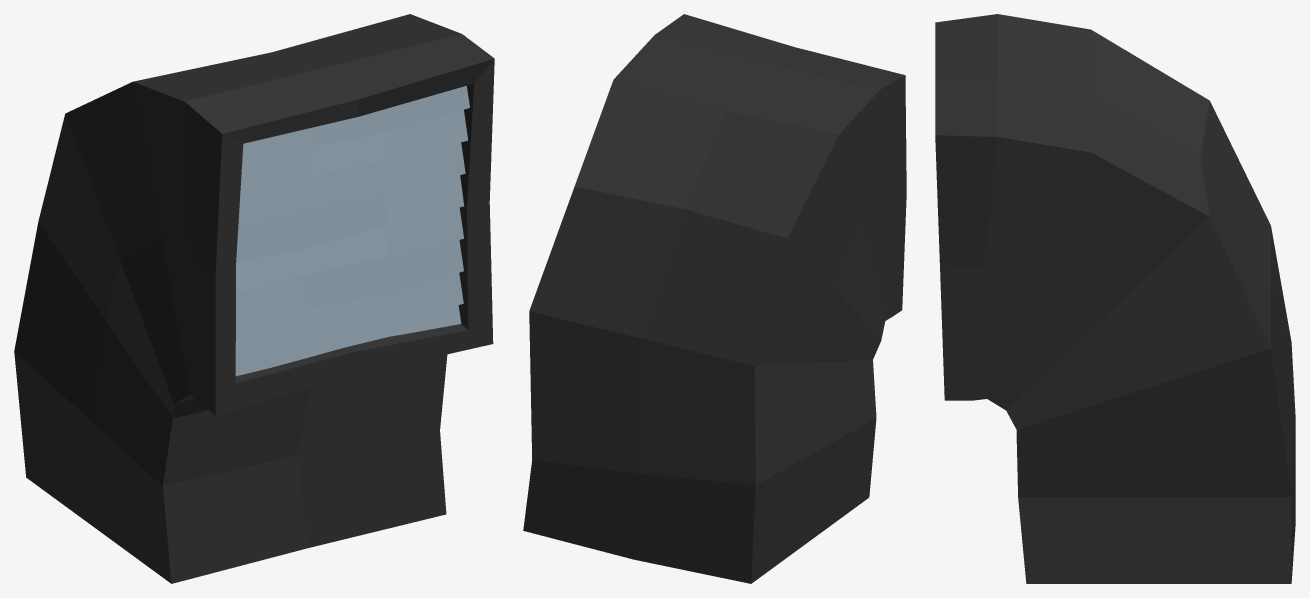
The model's file is VentRoof1.fbx.
3 views of the same model, side by side, from view 1: azimuth 30°, elevation 25°; view 2: azimuth 150°, elevation 25°; view 3: azimuth 270°, elevation 25° (orthographic). The views are drawn at different scales.
Visible parts, largest first — view 1: Cube.350, Plane.064; view 2: Cube.350; view 3: Cube.350.
Boxes of the visible parts, bbox=[...] form: Cube.350: bbox=[14, 14, 494, 583]; Plane.064: bbox=[235, 86, 469, 376]; Cube.350: bbox=[523, 14, 906, 583]; Cube.350: bbox=[935, 14, 1295, 583].
Bounding box in the file's own units: 209 × 340 × 248.
